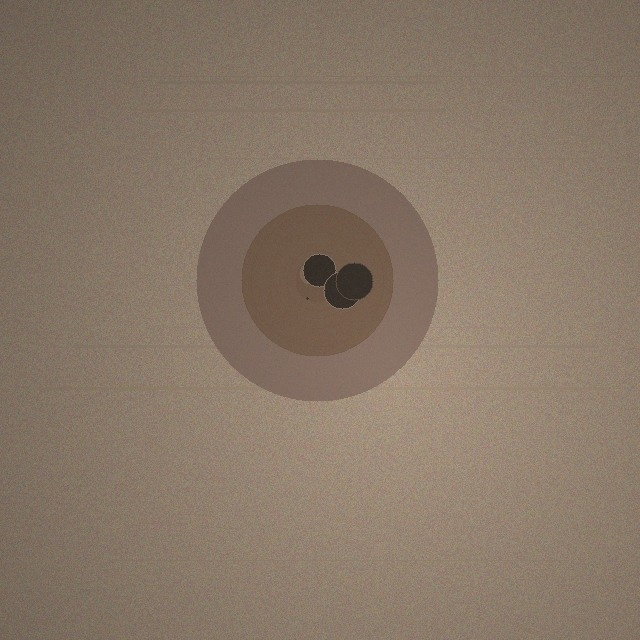shrinkage: (196, 159, 438, 401)
